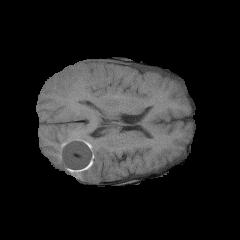glioma: (49, 67, 167, 180)
